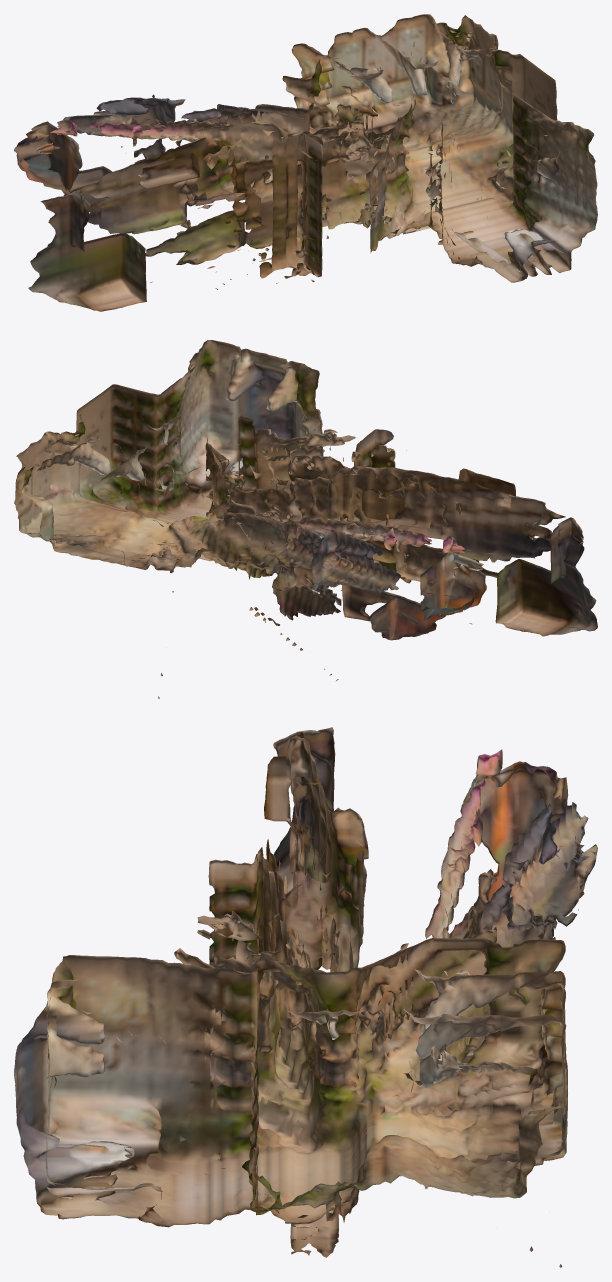
The model's file is cozy-anime-boba-shop-collider.glb.
The picture shows the model from 3 angles, top to bottom: view 1: azimuth 30°, elevation 25°; view 2: azimuth 150°, elevation 25°; view 3: azimuth 270°, elevation 25°; orthographic projection. The views are drawn at different scales.
Parts seen in each view (by area): view 1: world; view 2: world; view 3: world.
Boxes of the visible parts, box(x1,y1,x2,y2) form: world: box(14, 14, 597, 311); world: box(14, 340, 597, 698); world: box(14, 727, 597, 1267).
Size of the model in its own units: 12.79 by 5.12 by 8.31.
